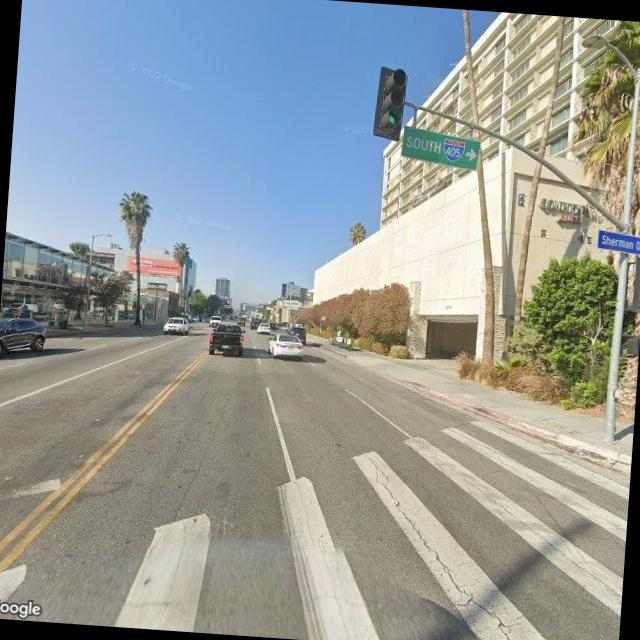pothole: (342, 446, 551, 640)
